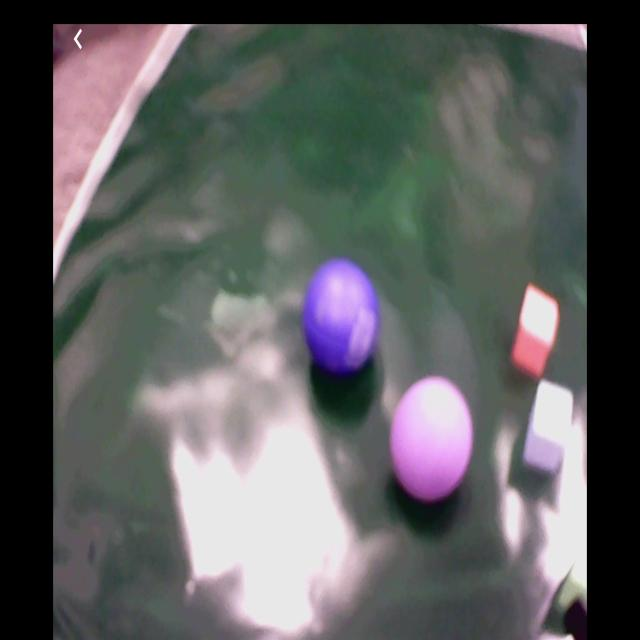ball: (393, 377, 475, 501), (303, 262, 379, 375)
